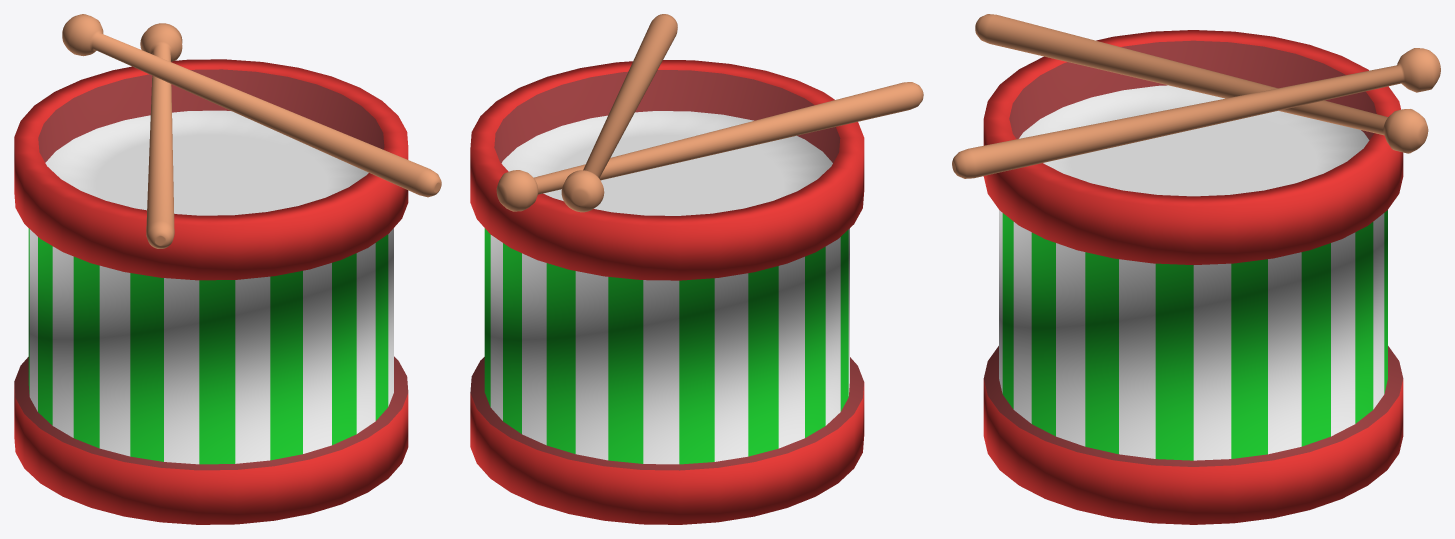
Rendered from Drum.fbx.
3 views of the same model, side by side, from view 1: azimuth 30°, elevation 25°; view 2: azimuth 150°, elevation 25°; view 3: azimuth 270°, elevation 25° (orthographic). The views are drawn at different scales.
Visible parts, largest first — view 1: Rumpusetti; view 2: Rumpusetti; view 3: Rumpusetti.
Part boxes in pixels (bbox=[...]): Rumpusetti: bbox=[14, 14, 441, 524]; Rumpusetti: bbox=[470, 14, 923, 524]; Rumpusetti: bbox=[952, 14, 1440, 524].
Bounding box in the file's own units: 138 × 136 × 161.
